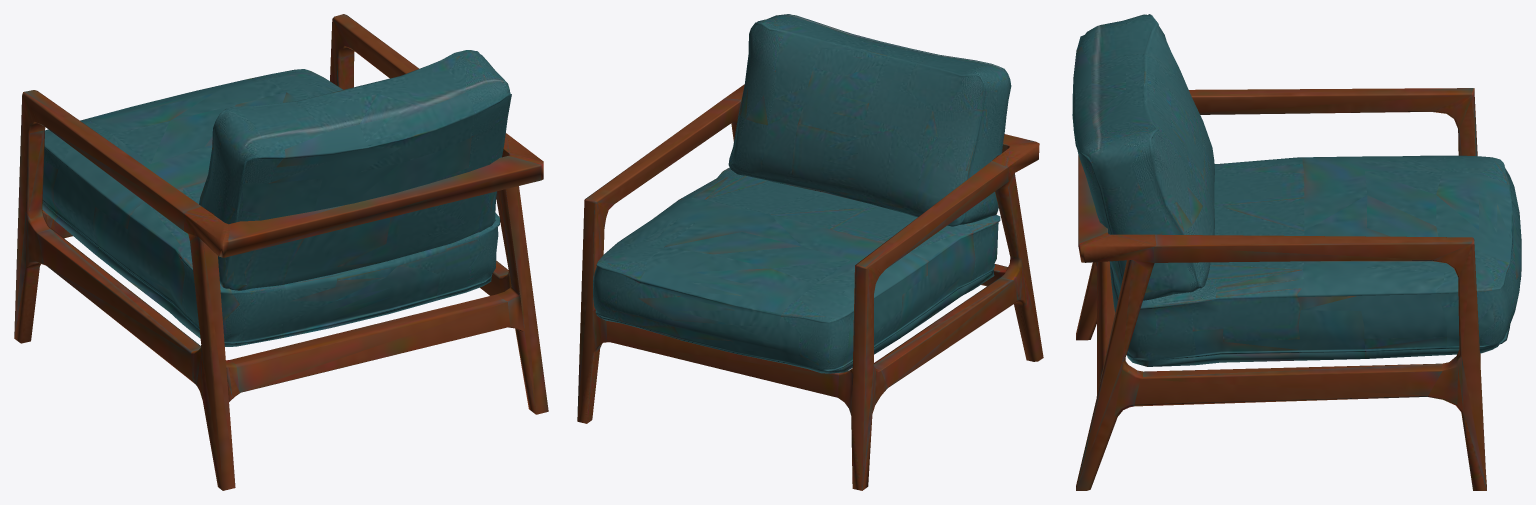
Rendered from office-lounge-armchair.glb.
3 views of the same model, side by side, from view 1: azimuth 30°, elevation 25°; view 2: azimuth 150°, elevation 25°; view 3: azimuth 270°, elevation 25° (orthographic). The views are drawn at different scales.
Parts seen in each view (by area): view 1: lounge-armchair; view 2: lounge-armchair; view 3: lounge-armchair.
Part boxes in pixels (x1,y1,x2,y2): lounge-armchair: [14, 14, 548, 490]; lounge-armchair: [577, 14, 1043, 490]; lounge-armchair: [1072, 14, 1521, 490].
Bounding box in the file's own units: 0.8484 × 0.85 × 1.02.
Materials: 1 (1 with a texture image).
